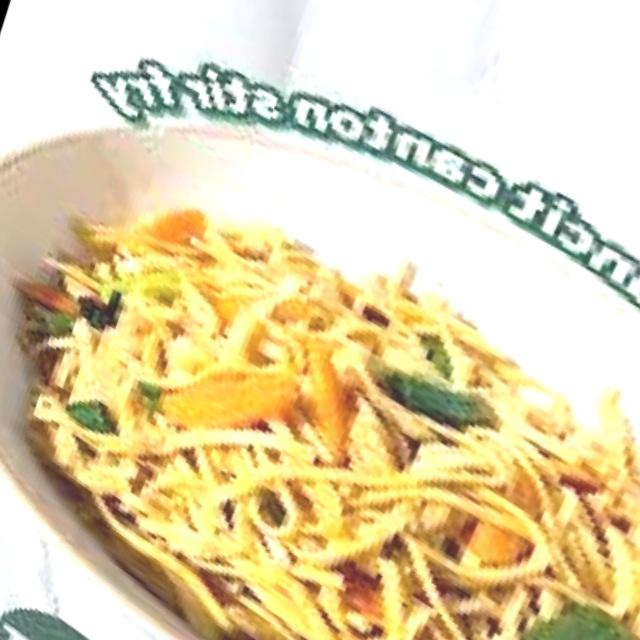pancit bihon: (25, 215, 639, 638)
